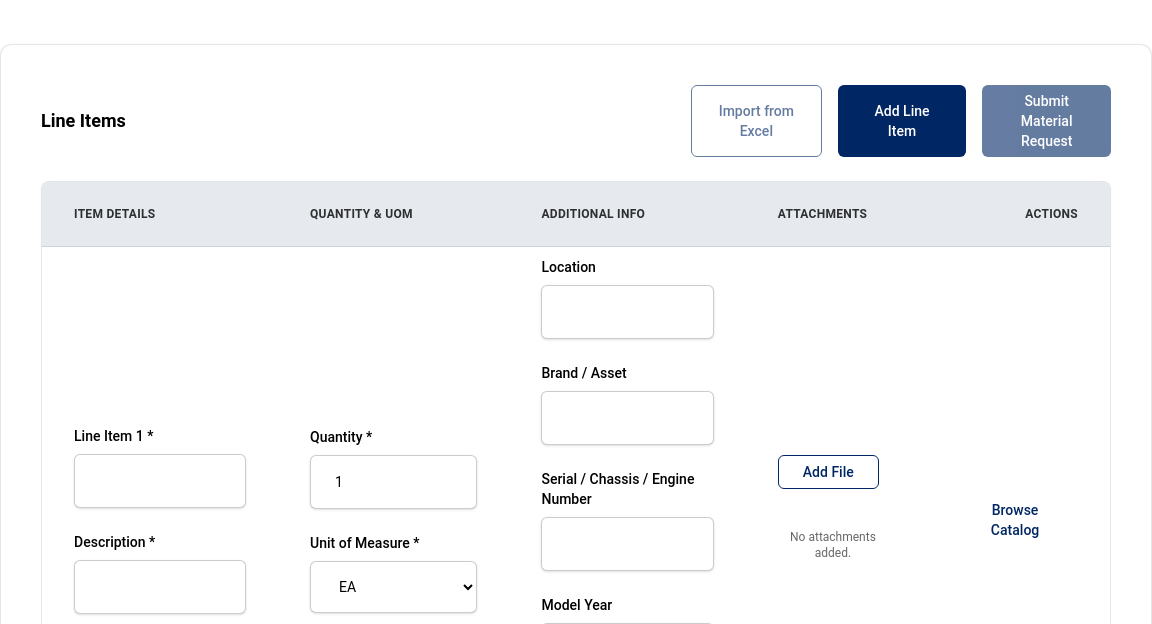
Test case: MaterialRequestForm › allows adding and removing line items
Expected: the text "Line Item 1 *" is shown, [74, 428, 153, 444]
Add another line item
Click the button "Add Line Item" at (902, 121), box [838, 85, 966, 157]
(page scrolled)
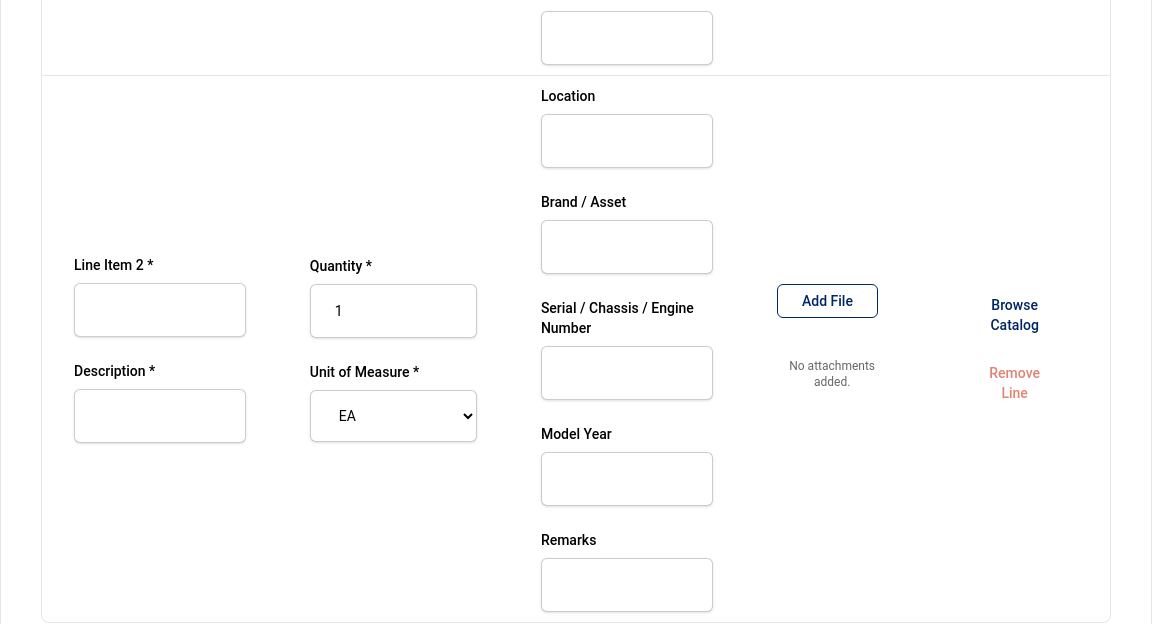
Now the text "Line Item 2 *" is shown, box [74, 257, 153, 273]
Now the text "Remove Line" is shown 2 times
Click the button "Remove Line" at (1015, 383), box [951, 357, 1078, 409]
(page scrolled)
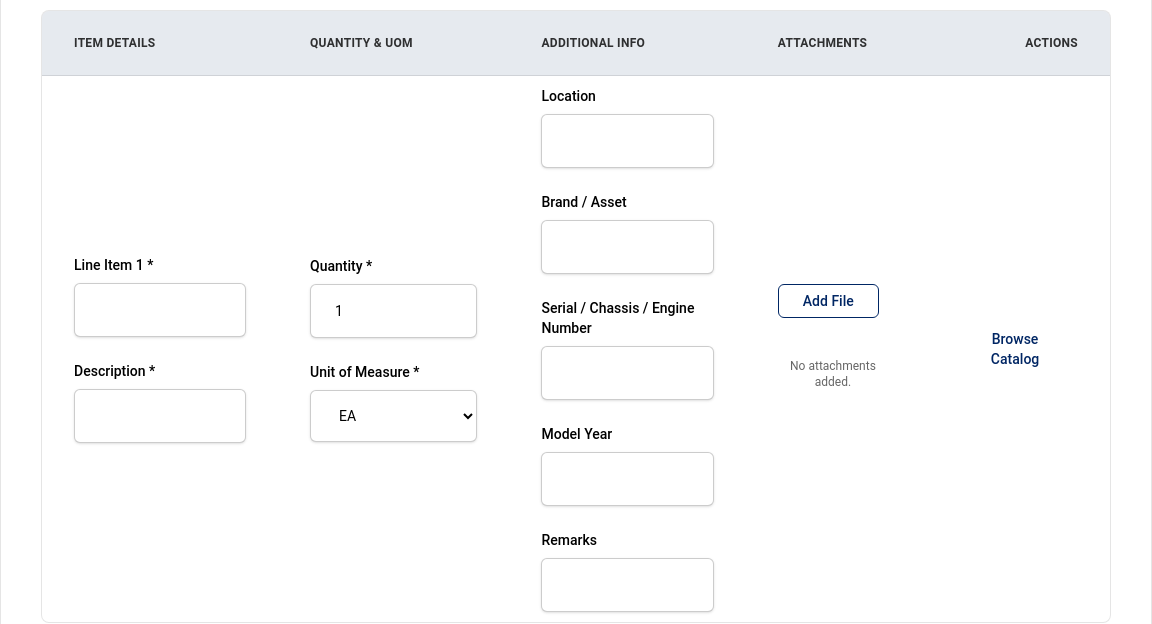
Now the text "Line Item 2" is gone
